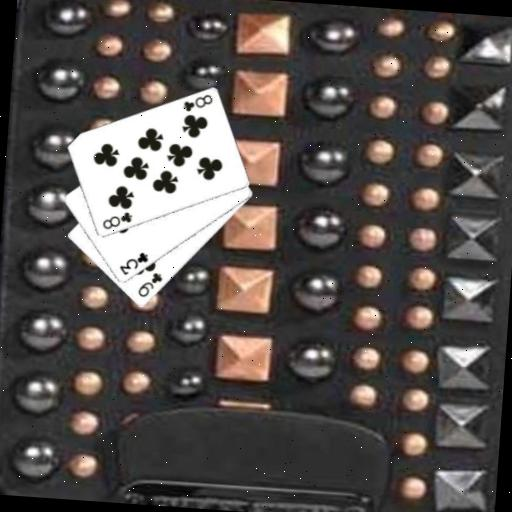3C: (116, 248, 150, 279)
8C: (179, 90, 215, 116), (99, 207, 134, 232)
9C: (135, 268, 165, 300)
